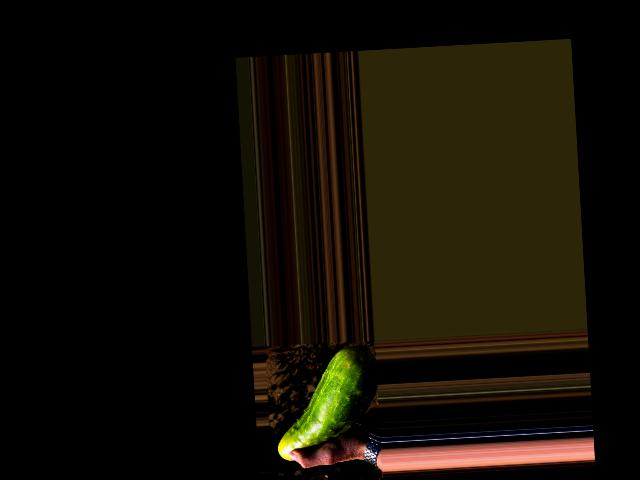cucumber: (272, 344, 382, 461)
